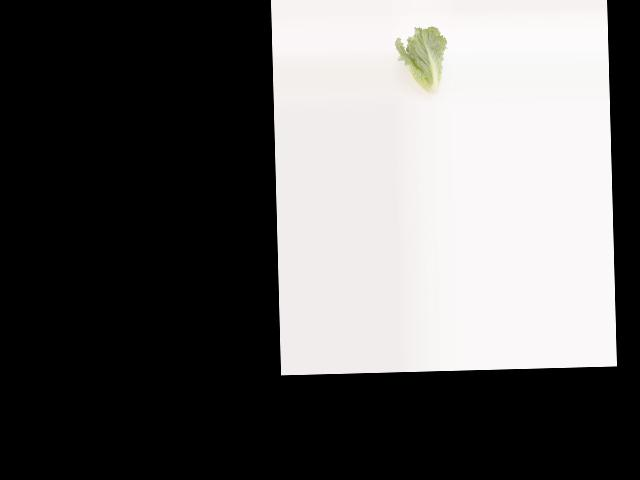lettuce: (397, 23, 450, 101)
